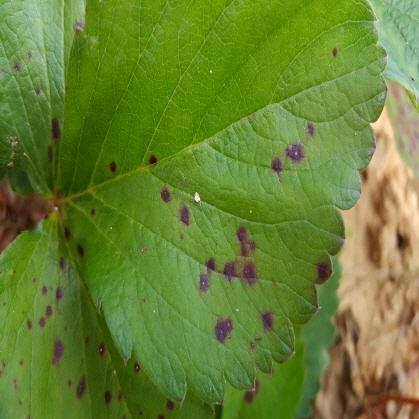Leaf Spot: (57, 0, 388, 408), (0, 206, 219, 418), (219, 259, 344, 418), (0, 0, 85, 197)
